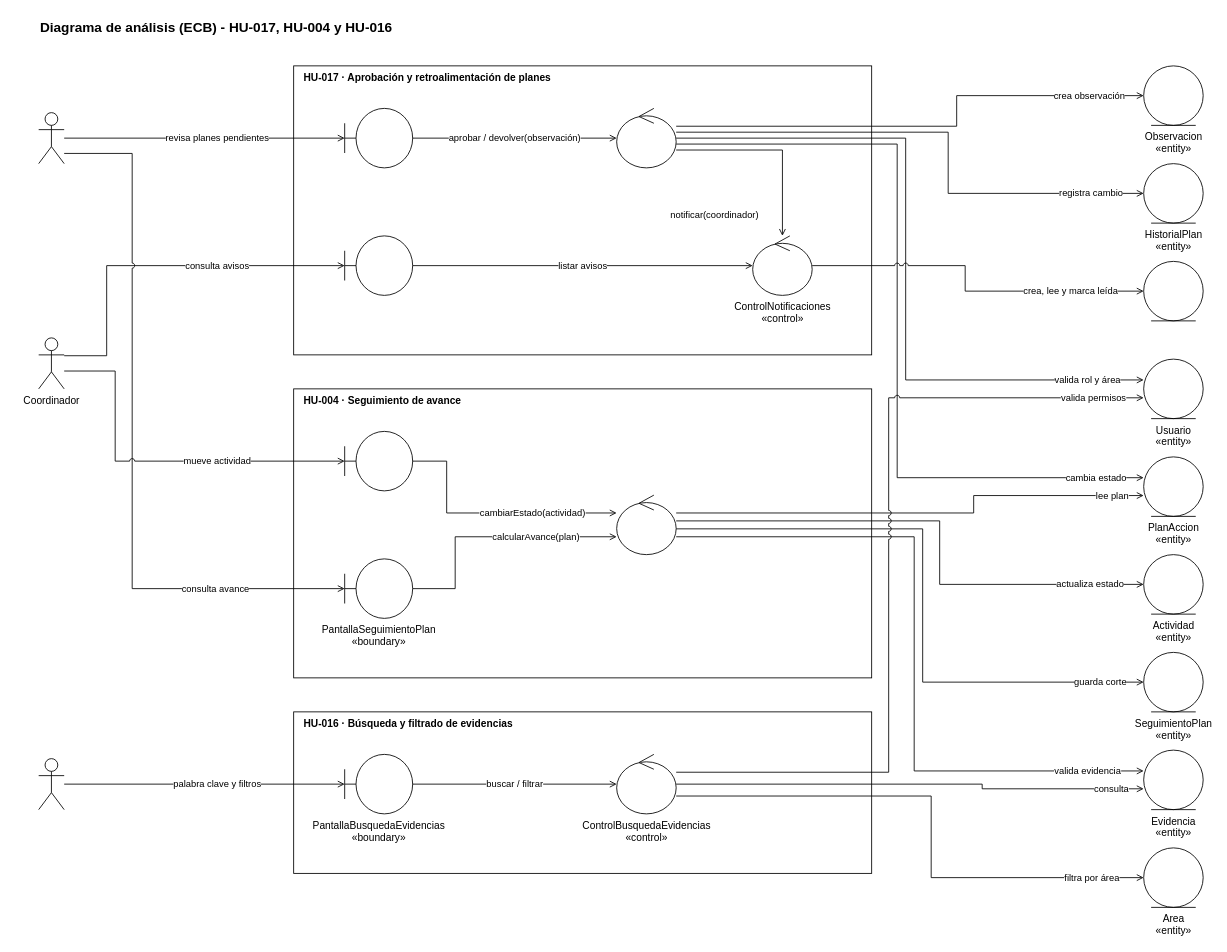
The diagram is 1227 pixels wide and 952 high, and some of its shapes have lost their labels. The centre of each missing label's shape, as x and y in pixels:
"ControlAprobacionPlanes «control»" belongs at point 646,138.
"ControlSeguimientoPlanes «control»" belongs at point 646,524.
"Director de área" belongs at point 51,138.
"Líder de calidad" belongs at point 51,784.
"Notificacion «entity»" belongs at point 1173,291.
"PantallaNotificaciones «boundary»" belongs at point 378,265.
"PantallaRevisionPlanes «boundary»" belongs at point 378,138.
"TableroActividades «boundary»" belongs at point 378,461.
